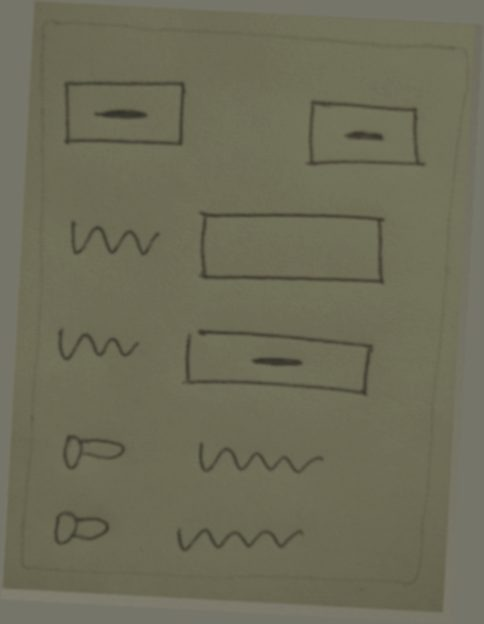button: (175, 323, 380, 405), (54, 70, 204, 165), (297, 92, 436, 181)
switch: (51, 424, 132, 481), (47, 501, 118, 554)
text: (184, 430, 332, 487), (164, 514, 310, 566), (60, 209, 165, 275), (51, 317, 149, 372)
text_input: (188, 200, 398, 297)
